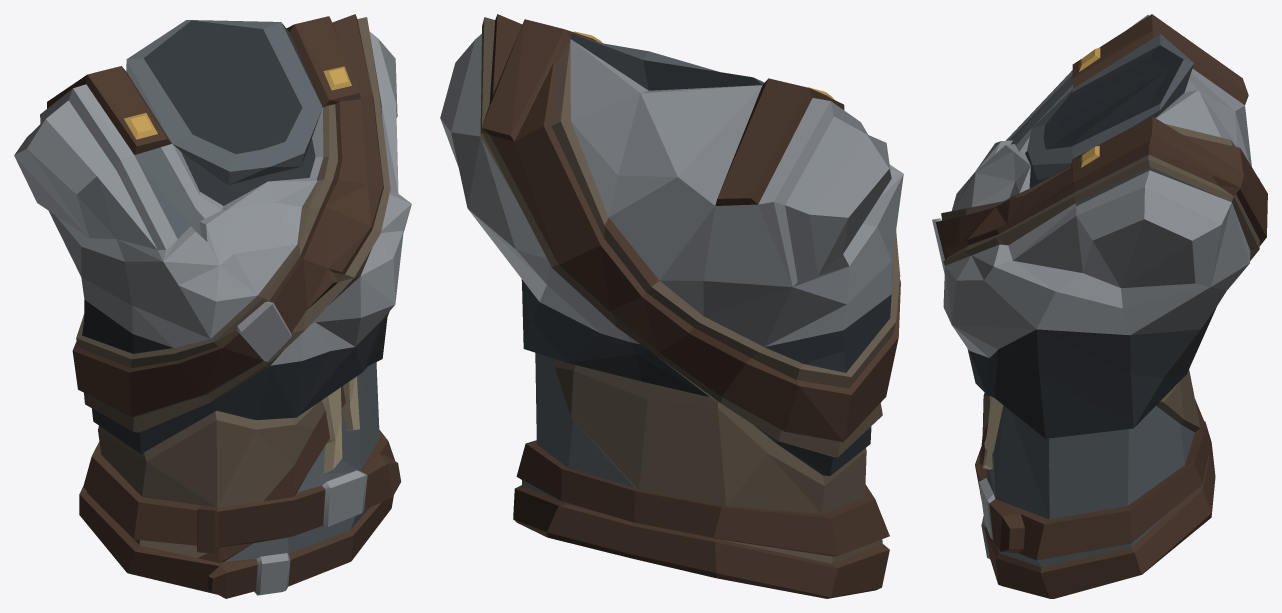
The model's file is Chr_Torso_Female_22_Static.fbx.
3 renders of one model, left to right at view 1: azimuth 30°, elevation 25°; view 2: azimuth 150°, elevation 25°; view 3: azimuth 270°, elevation 25°, orthographic. The views are drawn at different scales.
Visible parts, largest first — view 1: Chr_Torso_Female_22_Static; view 2: Chr_Torso_Female_22_Static; view 3: Chr_Torso_Female_22_Static.
Boxes of the visible parts, x1,y1,x2,y2 form: Chr_Torso_Female_22_Static: (14,14,411,598); Chr_Torso_Female_22_Static: (440,14,903,598); Chr_Torso_Female_22_Static: (932,14,1267,598).
Size of the model in its own units: 0.5172 by 0.6728 by 0.4063.
